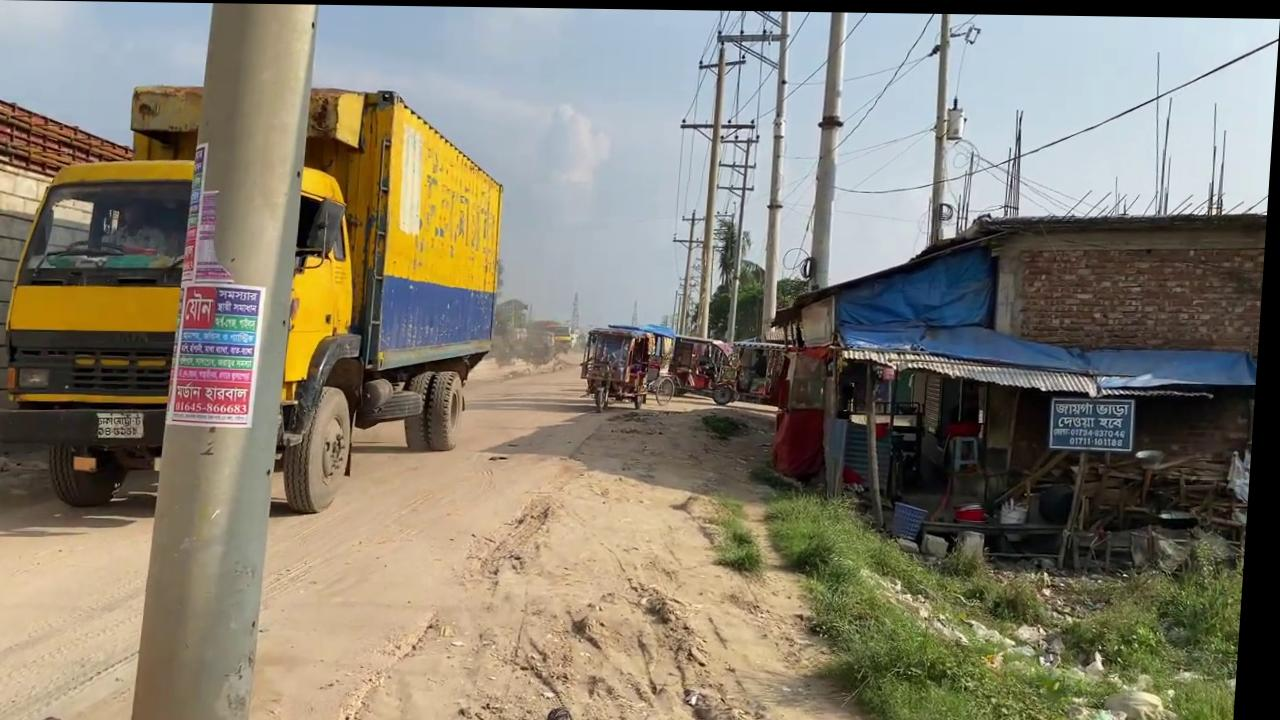Muddy road: (0, 335, 909, 720)
Pole: (140, 2, 318, 720), (761, 10, 797, 339), (809, 11, 849, 288), (699, 35, 730, 337), (927, 12, 957, 241)
Traffic-light: (173, 282, 268, 427)
Tree: (0, 77, 513, 516)
